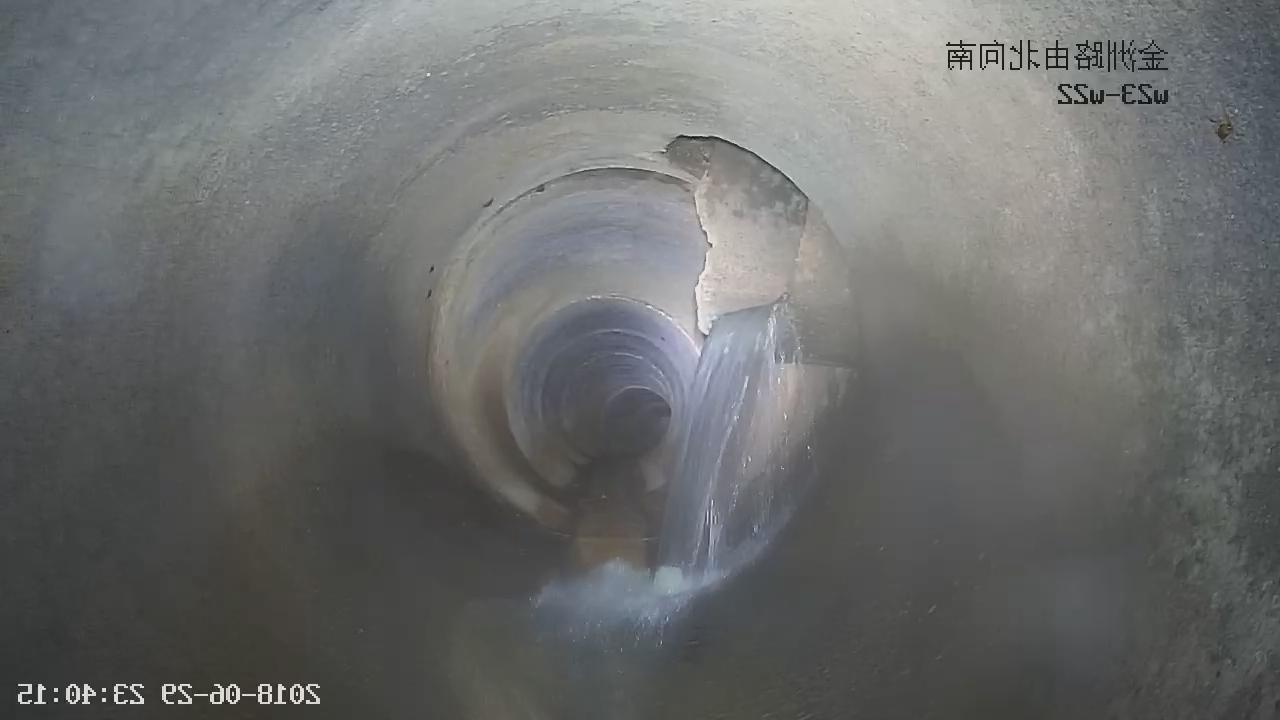ZGAJ: (660, 135, 859, 367)
